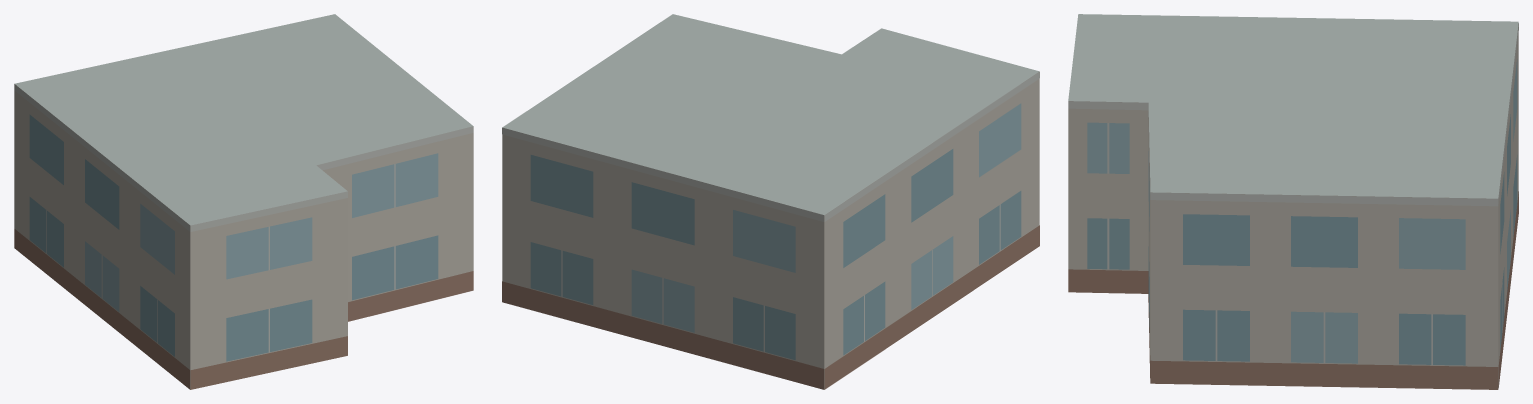
The model's file is survey-upis-32866457.glb.
The picture shows the model from 3 angles, left to right: view 1: azimuth 30°, elevation 25°; view 2: azimuth 150°, elevation 25°; view 3: azimuth 270°, elevation 25°; orthographic projection. The views are drawn at different scales.
Visible parts, largest first — view 1: survey-upis-32866457.tmp; view 2: survey-upis-32866457.tmp; view 3: survey-upis-32866457.tmp.
Boxes of the visible parts, x1=… form: survey-upis-32866457.tmp: x1=14, y1=14, x2=473, y2=389; survey-upis-32866457.tmp: x1=502, y1=14, x2=1039, y2=389; survey-upis-32866457.tmp: x1=1068, y1=14, x2=1518, y2=389.
Size of the model in its own units: 12.64 by 6.1 by 13.04.
